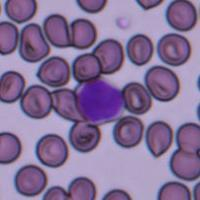L: (76, 78, 124, 125)
